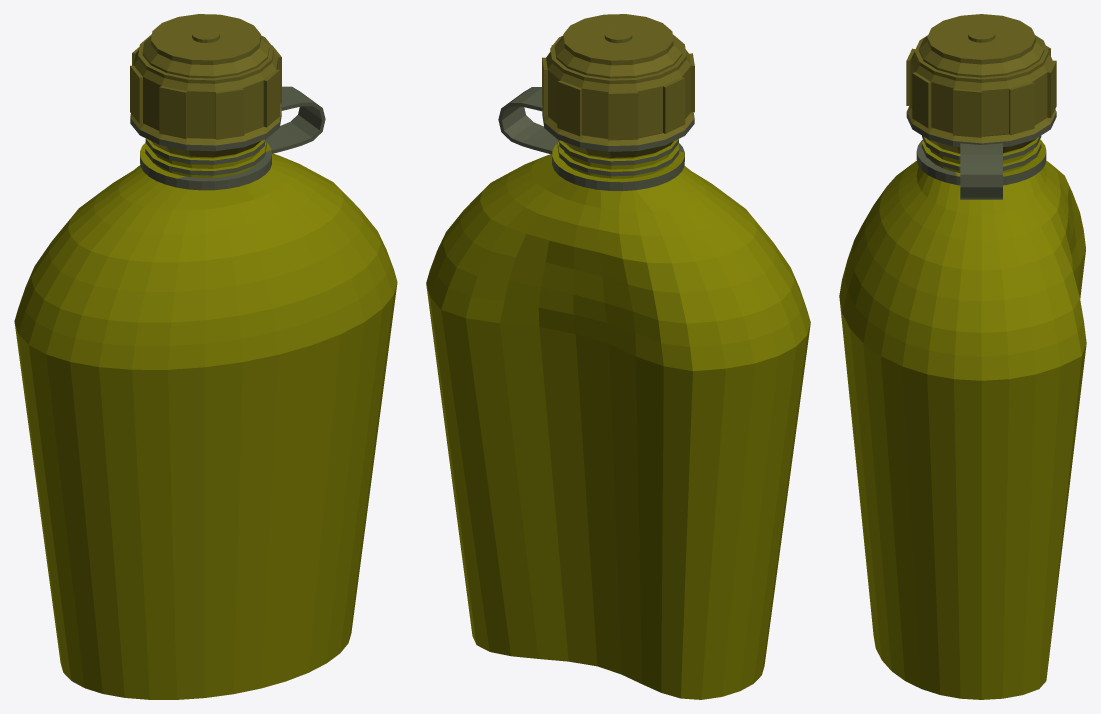
Rendered from WorldItem_Canteen.fbx.
3 renders of one model, left to right at view 1: azimuth 30°, elevation 25°; view 2: azimuth 150°, elevation 25°; view 3: azimuth 270°, elevation 25°, orthographic. The views are drawn at different scales.
Parts seen in each view (by area): view 1: ZomboidCanteen; view 2: ZomboidCanteen; view 3: ZomboidCanteen.
Part boxes in pixels (x1,y1,x2,y2): ZomboidCanteen: [14, 14, 397, 699]; ZomboidCanteen: [426, 14, 810, 699]; ZomboidCanteen: [839, 14, 1086, 699].
Size of the model in its own units: 0.0958 by 0.1587 by 0.0591.
